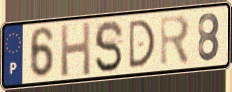6: (29, 26, 56, 81)
8: (196, 12, 220, 63)
D: (127, 18, 157, 71)
H: (59, 20, 93, 79)
R: (159, 13, 192, 69)
S: (93, 19, 126, 75)
